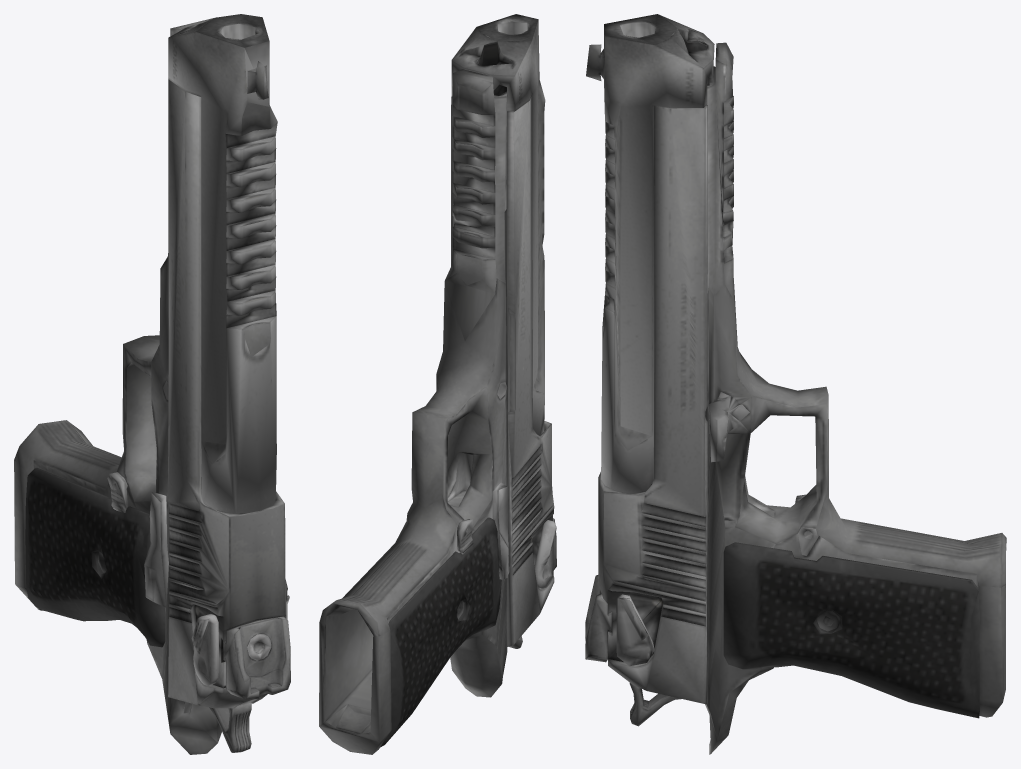
The model's file is HandgunNoMag.fbx.
The picture shows the model from 3 angles, left to right: view 1: azimuth 30°, elevation 25°; view 2: azimuth 150°, elevation 25°; view 3: azimuth 270°, elevation 25°; orthographic projection. The views are drawn at different scales.
Visible parts, largest first — view 1: Handgun; view 2: Handgun; view 3: Handgun.
Boxes of the visible parts, x1,y1,x2,y2 form: Handgun: [14, 14, 290, 754]; Handgun: [319, 14, 556, 754]; Handgun: [585, 14, 1006, 754].
Size of the model in its own units: 0.0263 by 0.207 by 0.1092.
